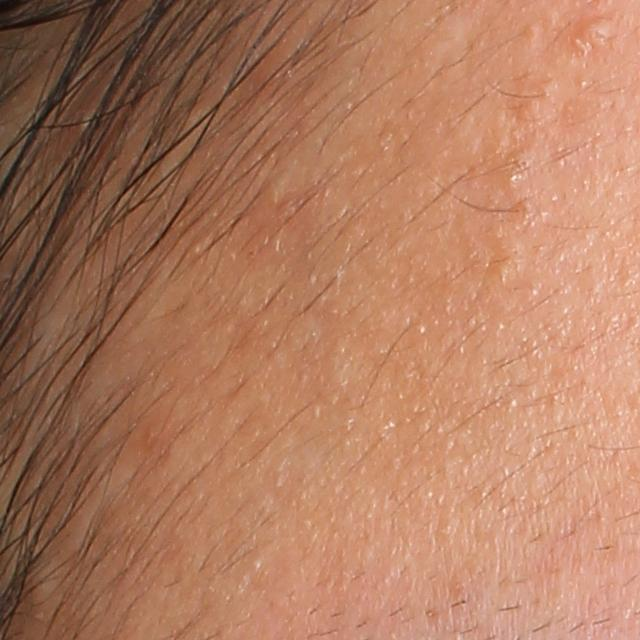comedo: (568, 15, 617, 53)
